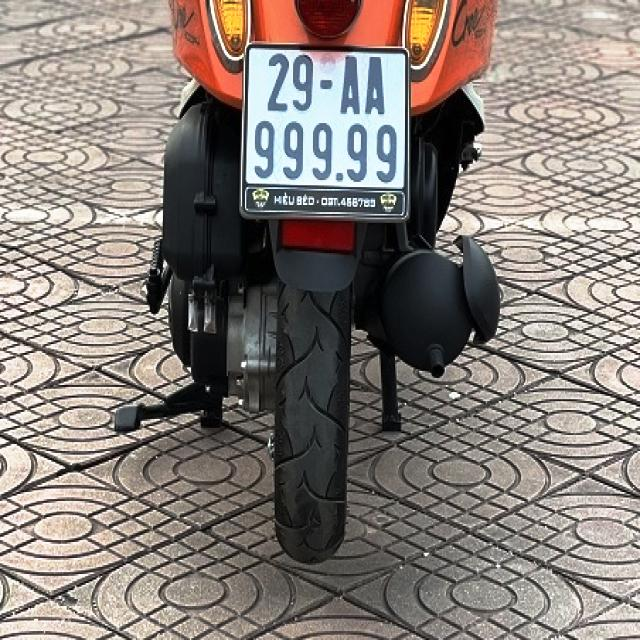license_plate: (242, 45, 410, 222)
